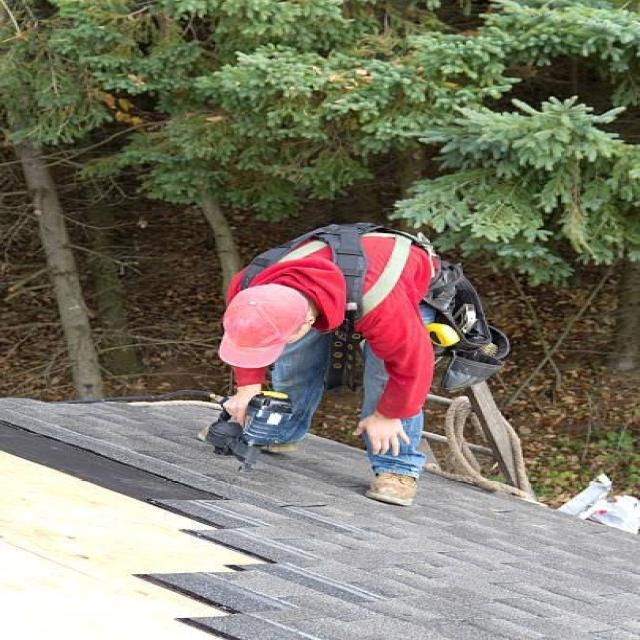Arnes_seguridad: (264, 221, 441, 323)
